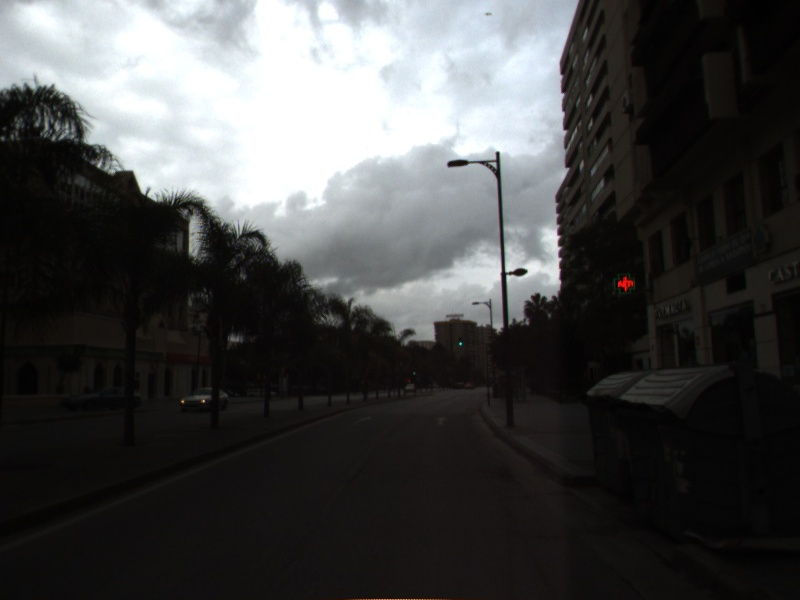STRAIGHT: (349, 414, 375, 427), (432, 414, 451, 427)
